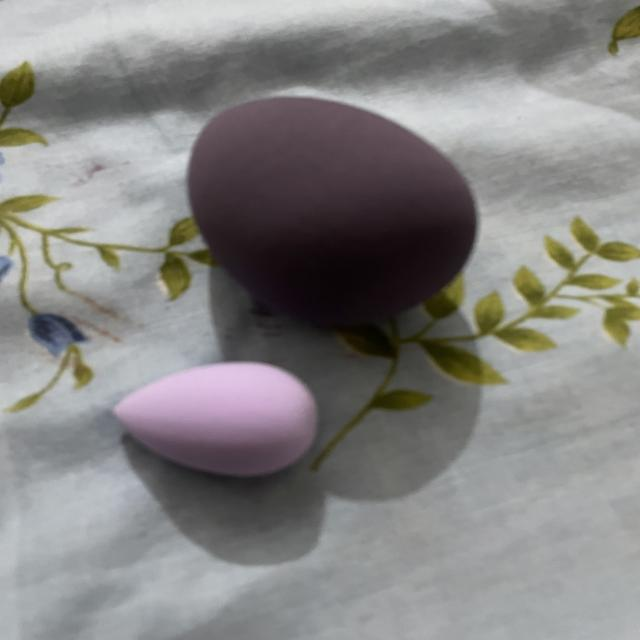beauty blender: (176, 85, 498, 332), (98, 350, 357, 492)
